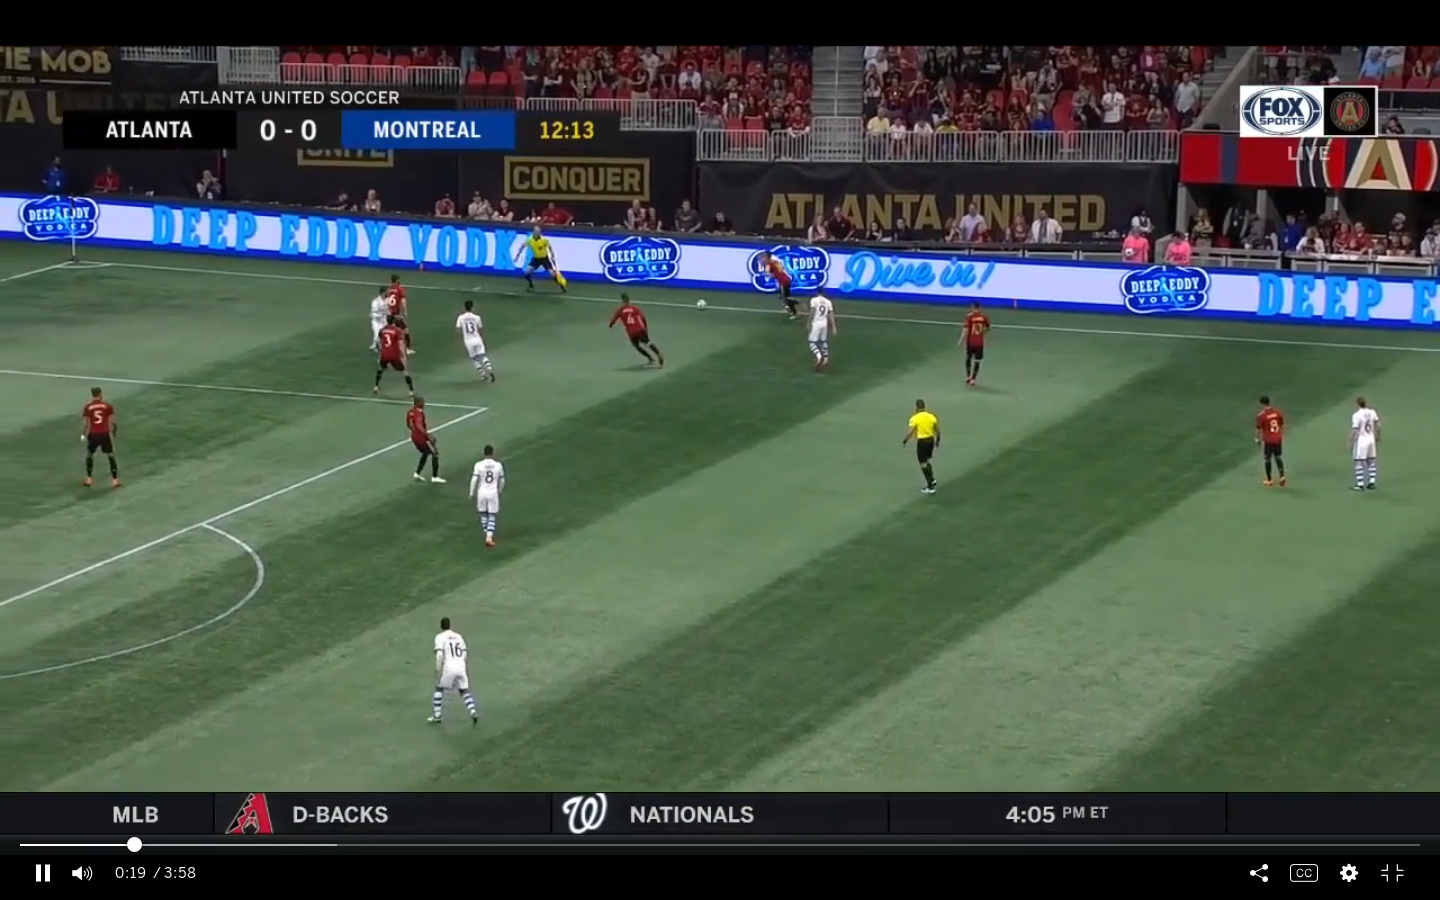referee: (899, 397, 945, 496), (513, 225, 567, 299)
soccer player: (424, 612, 481, 728), (70, 383, 127, 494), (396, 396, 453, 488), (1248, 388, 1296, 491), (367, 319, 427, 400), (607, 291, 664, 372), (467, 440, 507, 551), (798, 283, 841, 371), (1348, 397, 1387, 491), (956, 296, 993, 394), (455, 302, 499, 385), (758, 248, 801, 323)
soccerball: (690, 296, 710, 314)
